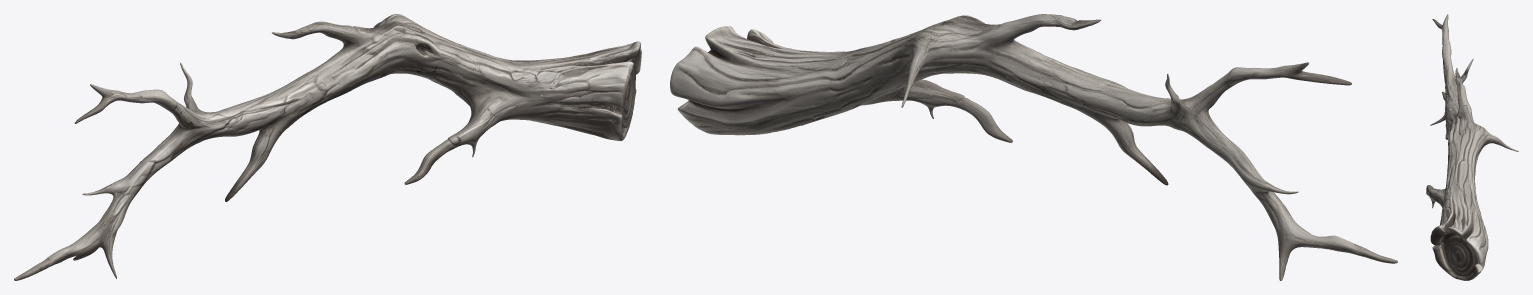
File: Meshy_AI_Branch_Skeleton_0216150602_texture.fbx
3 views of the same model, side by side, from view 1: azimuth 30°, elevation 25°; view 2: azimuth 150°, elevation 25°; view 3: azimuth 270°, elevation 25° (orthographic). The views are drawn at different scales.
Parts seen in each view (by area): view 1: Mesh_0; view 2: Mesh_0; view 3: Mesh_0.
Part boxes in pixels (x1=…): Mesh_0: x1=14, y1=14, x2=641, y2=280; Mesh_0: x1=670, y1=14, x2=1397, y2=280; Mesh_0: x1=1426, y1=14, x2=1518, y2=280.
Bounding box in the file's own units: 190 × 53.2 × 39.75.
1 material, 1 textured.
